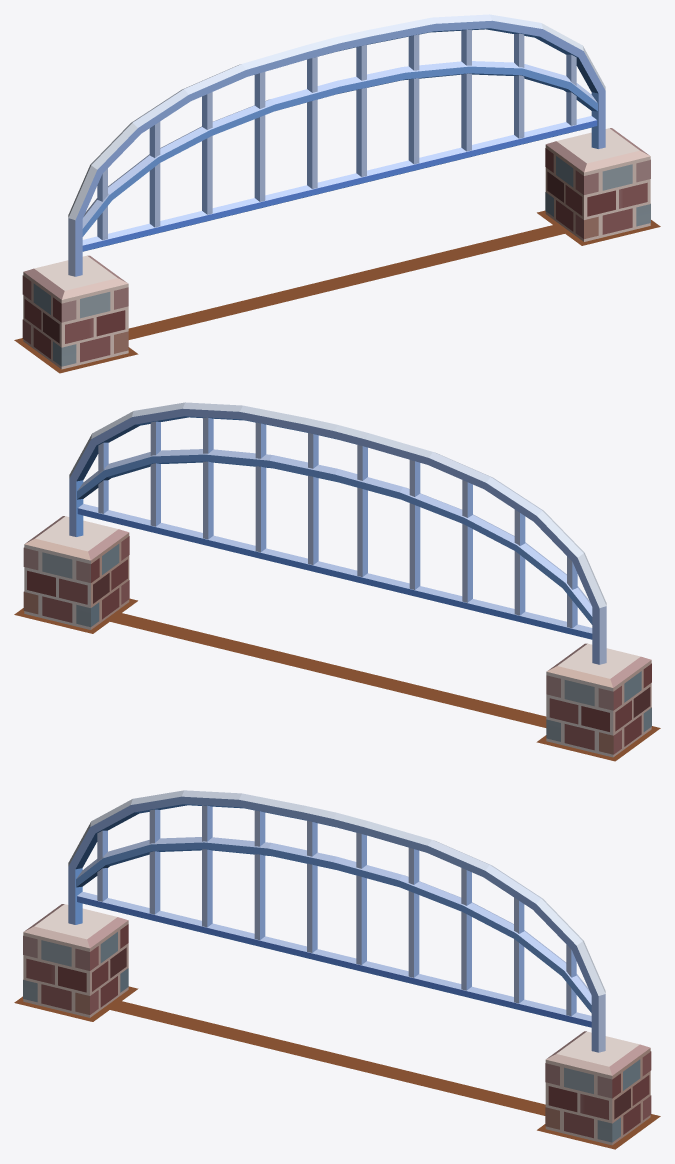
The model's file is barrier_008.fbx.
3 renders of one model, top to bottom at view 1: azimuth 30°, elevation 25°; view 2: azimuth 150°, elevation 25°; view 3: azimuth 330°, elevation 25°, orthographic.
Parts seen in each view (by area): view 1: barrier_008; view 2: barrier_008; view 3: barrier_008.
Part boxes in pixels (<box>): barrier_008: <box>14,14,660,373</box>; barrier_008: <box>14,402,660,761</box>; barrier_008: <box>14,790,660,1149</box>.
Size of the model in its own units: 298 by 117 by 39.21.
